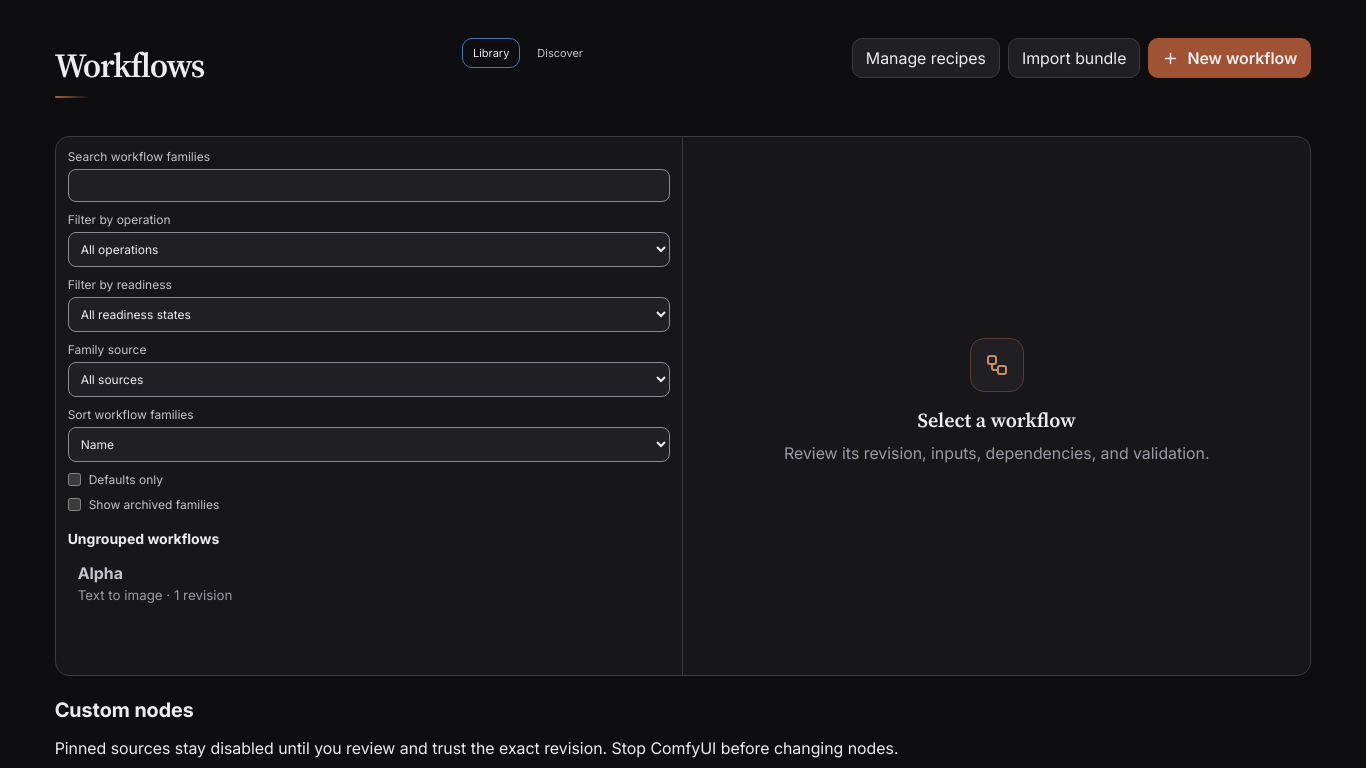
opening a workflow in ComfyUI › does not offer recovery controls while the original draft save is running
Click the text "Alpha" at (100, 573), box [78,563,123,583]
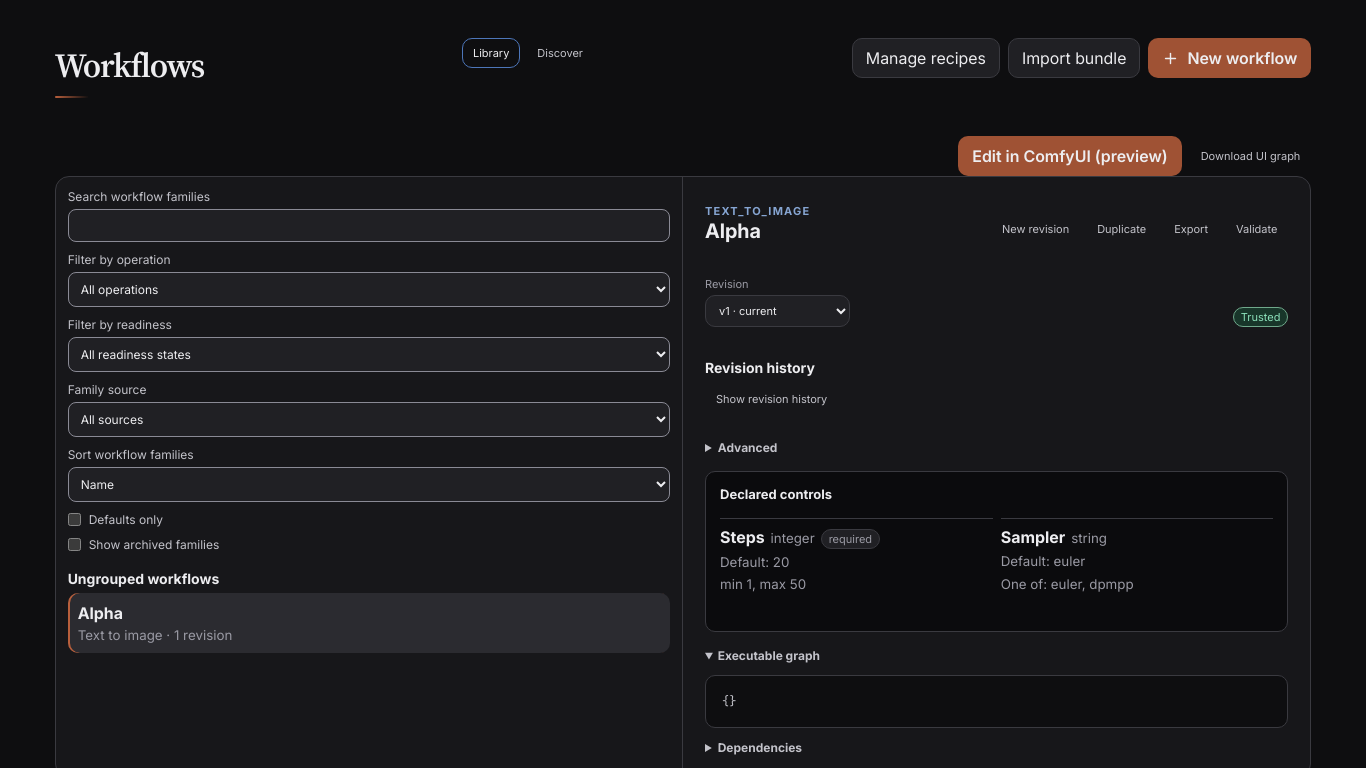
Expected: the button "New revision" is shown, [991,214,1080,244]
Click the button "Edit in ComfyUI (preview)" at (1070, 156), box [958,136,1182,176]
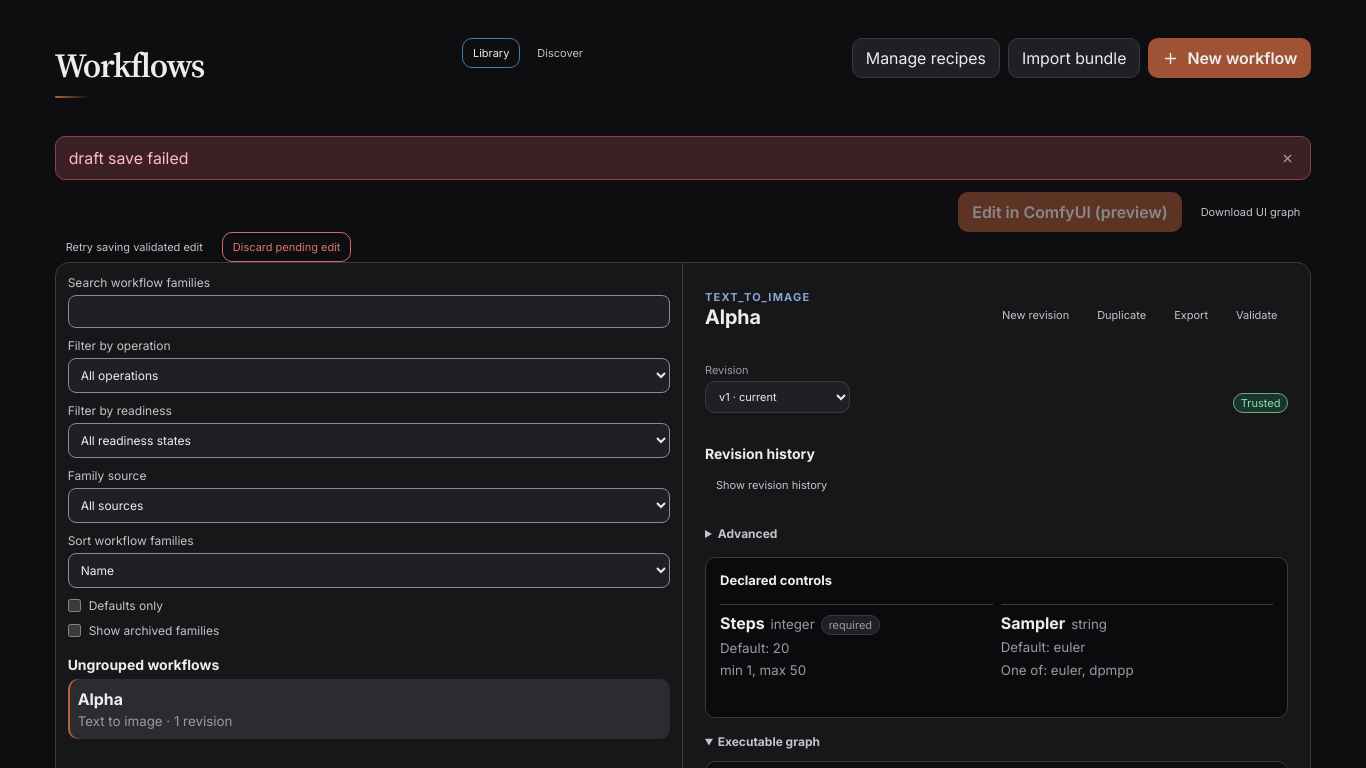
Expected: the button "Retry saving validated edit" is shown, [55,232,214,262]
Expected: the button "Discard pending edit" is shown, [222,232,351,262]
